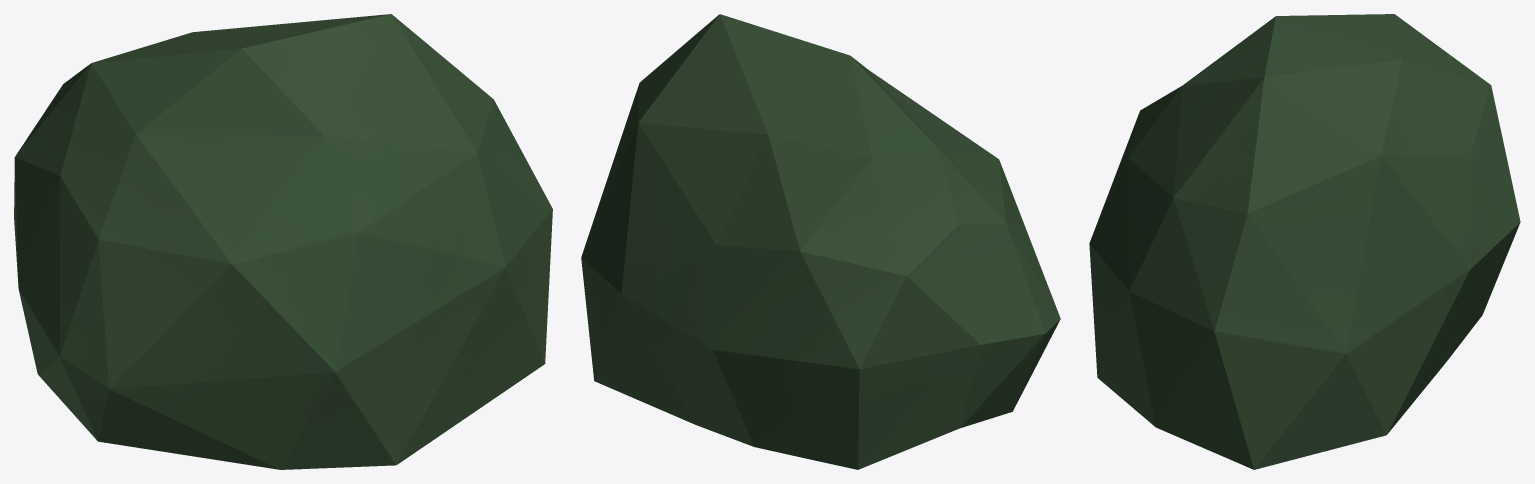
Rendered from bush_C.obj.
3 renders of one model, left to right at view 1: azimuth 30°, elevation 25°; view 2: azimuth 150°, elevation 25°; view 3: azimuth 270°, elevation 25°, orthographic. The views are drawn at different scales.
Visible parts, largest first — view 1: bush_C; view 2: bush_C; view 3: bush_C.
Part boxes in pixels (left/top/right/bottom): bush_C: left=14, top=14, right=552, bottom=469; bush_C: left=581, top=14, right=1060, bottom=469; bush_C: left=1089, top=14, right=1520, bottom=469.
Size of the model in its own units: 1.34 by 1.04 by 1.14.
